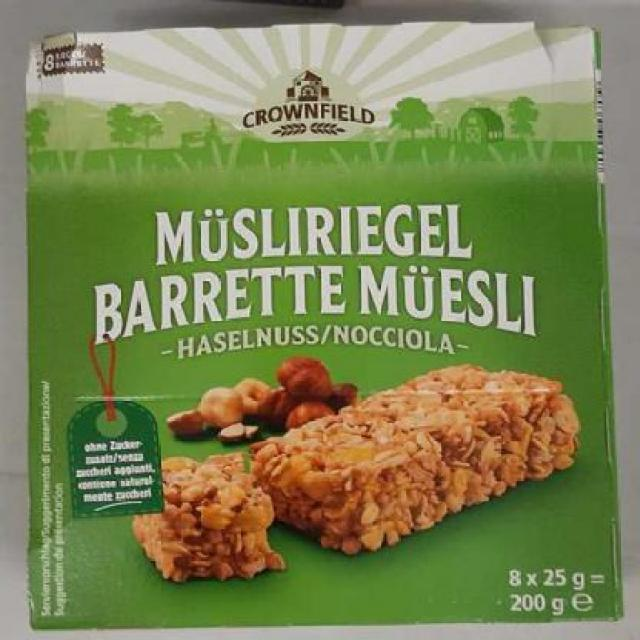Cereal bar: (18, 17, 632, 628)
